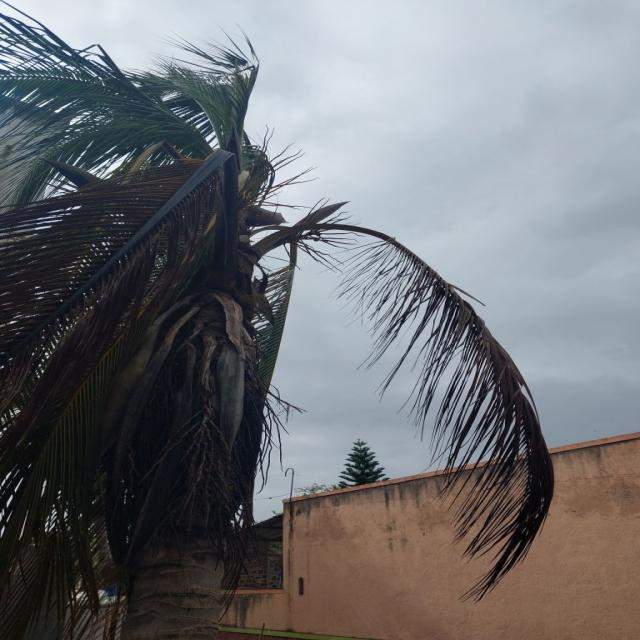bud root dropping: (2, 15, 553, 640)
